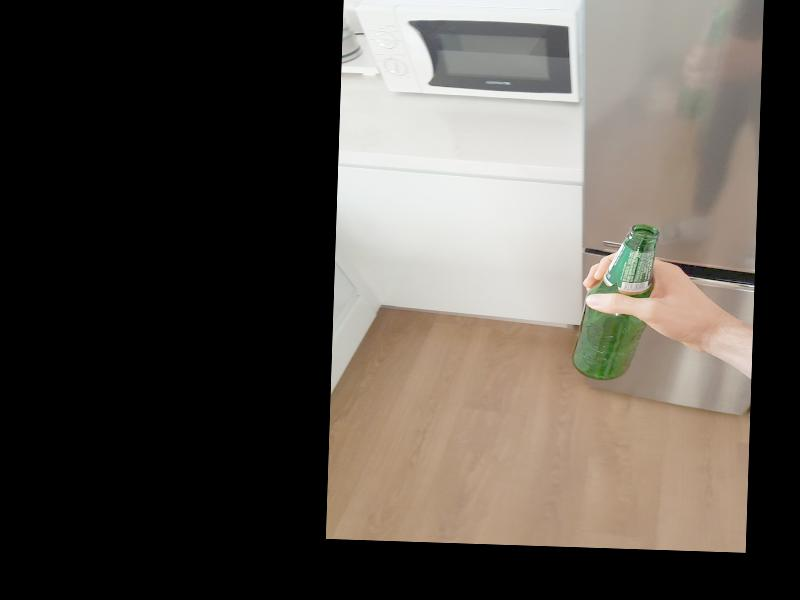Beer: (573, 222, 659, 382)
